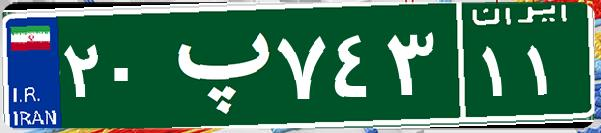0: (110, 28, 158, 105)
1: (475, 38, 525, 113), (525, 38, 570, 115)
2: (57, 26, 110, 107)
3: (385, 28, 445, 110)
4: (330, 28, 385, 110)
7: (273, 28, 330, 110)
پ: (158, 15, 273, 115)
